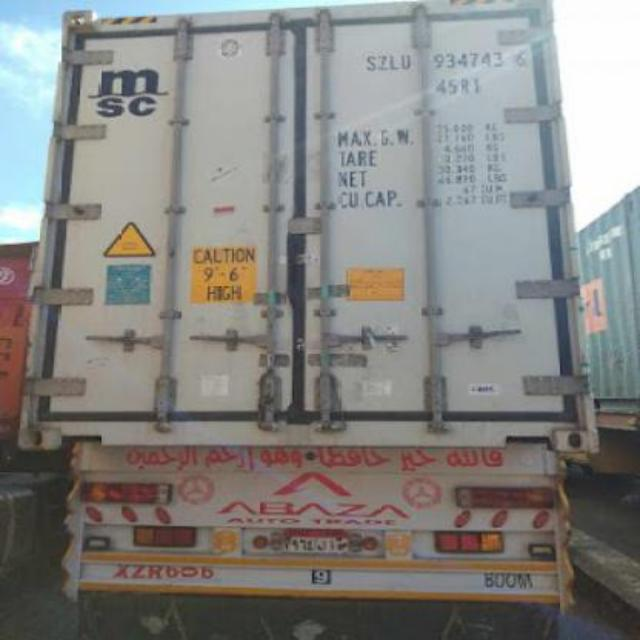3: (442, 49, 458, 70), (491, 46, 504, 70)
4: (476, 48, 494, 74), (456, 46, 468, 70)
6: (514, 46, 530, 74)
7: (466, 47, 479, 71)
9: (431, 51, 444, 74)
L: (386, 49, 398, 75)
S: (360, 48, 376, 74)
U: (398, 46, 416, 76)
Z: (378, 42, 390, 74)
